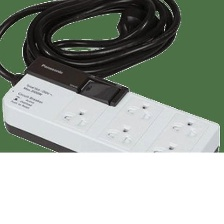three_eye_plug: (0, 53, 221, 176)
